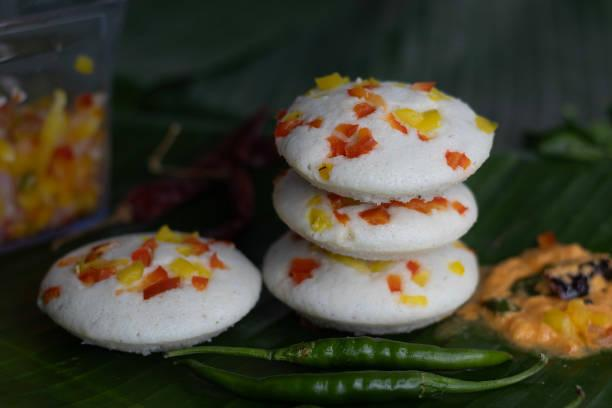coconut chutney: (488, 238, 610, 357)
idli: (261, 70, 484, 335), (39, 228, 268, 348)
